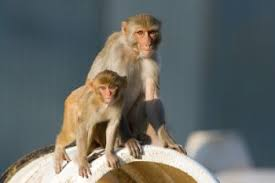monkey: (45, 12, 219, 183)
